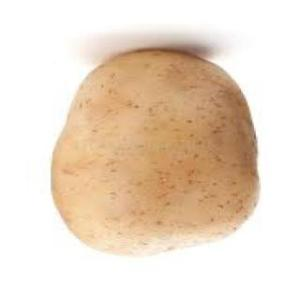potato: (52, 48, 260, 256)
